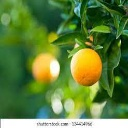orange: (71, 46, 103, 87)
